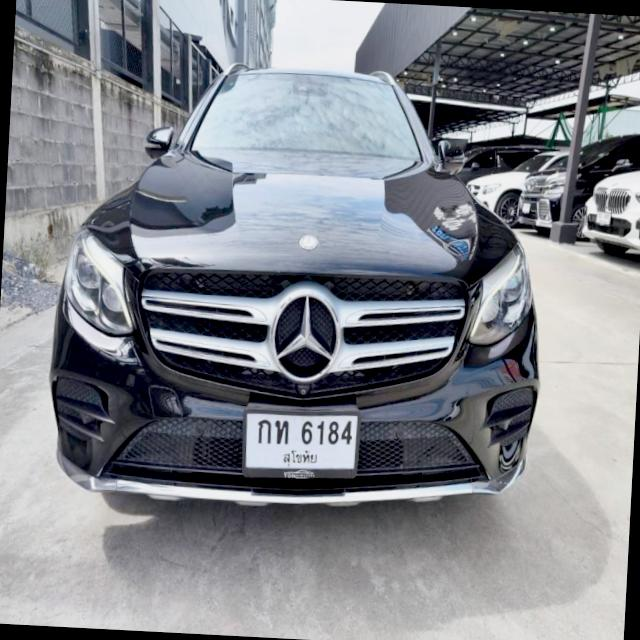license_plate: (234, 398, 372, 493)
